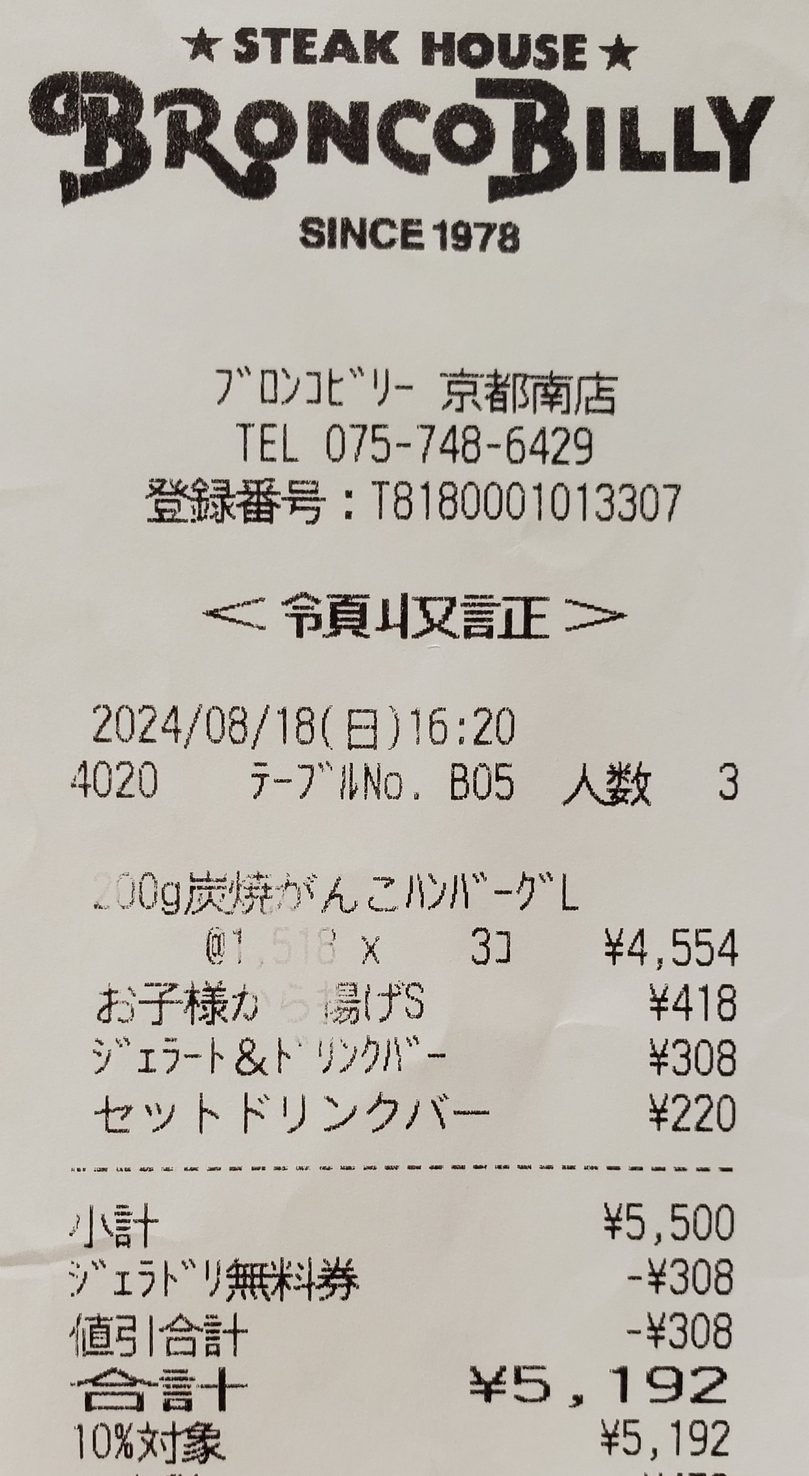Date: (85, 694, 324, 756)
Shopname: (18, 58, 809, 212)
Telnum: (309, 414, 607, 471)
Totalpay: (67, 1358, 752, 1416)
